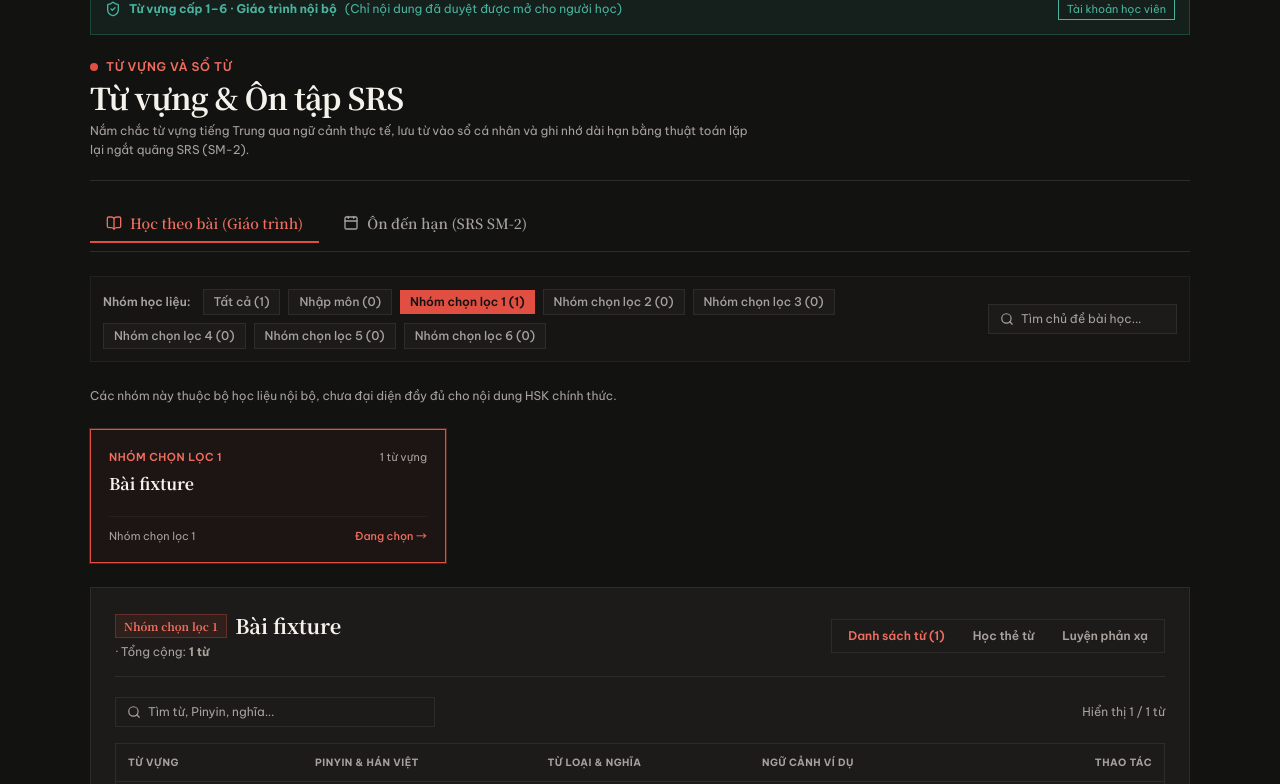
Test: a one-word lesson uses recall without revealing its only possible meaning or Pinyin
The width and height of the screenshot is (1280, 784).
Click the button "Luyện phản xạ": [1105, 636] box [1050, 624, 1160, 648]
(page scrolled)
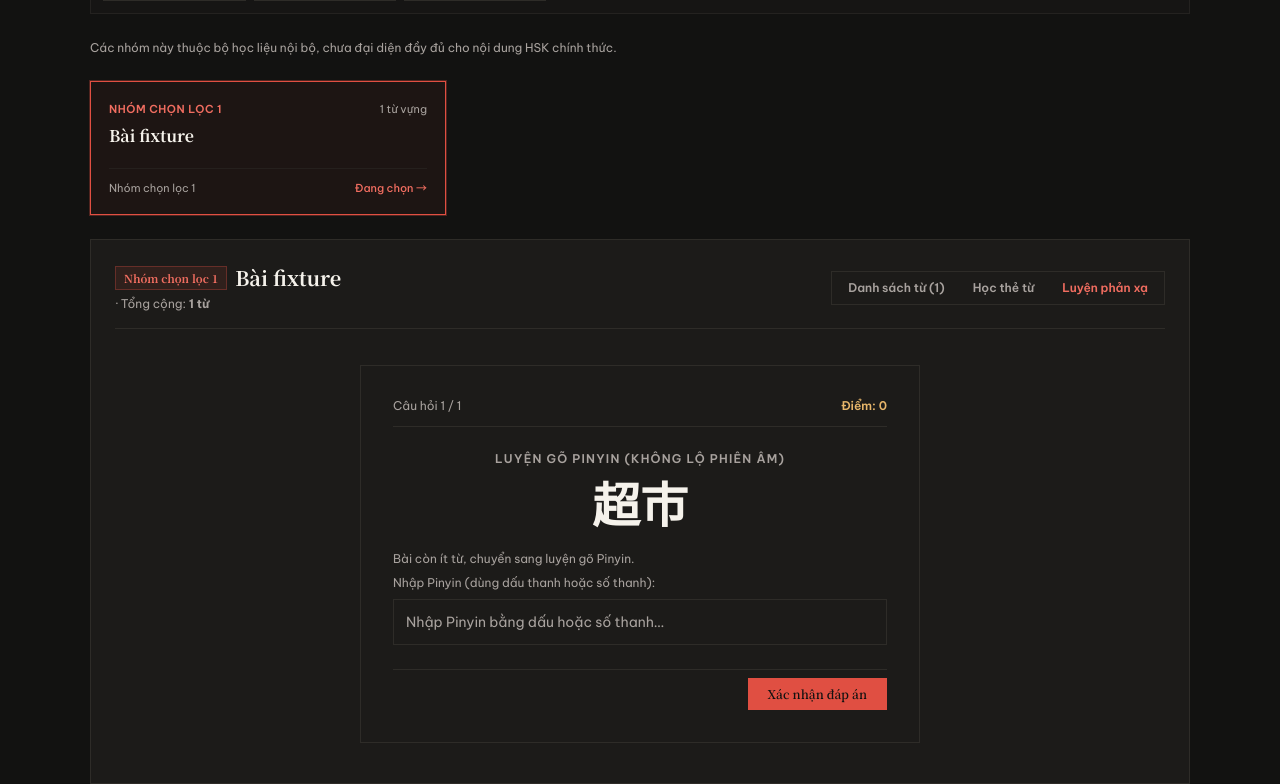
Now the field labelled "Nhập Pinyin (dùng dấu thanh hoặc số thanh):" is shown, box [393, 599, 887, 645]
Now the text "Bài còn ít từ, chuyển sang luyện gõ Pinyin." is shown, box [393, 551, 634, 566]
